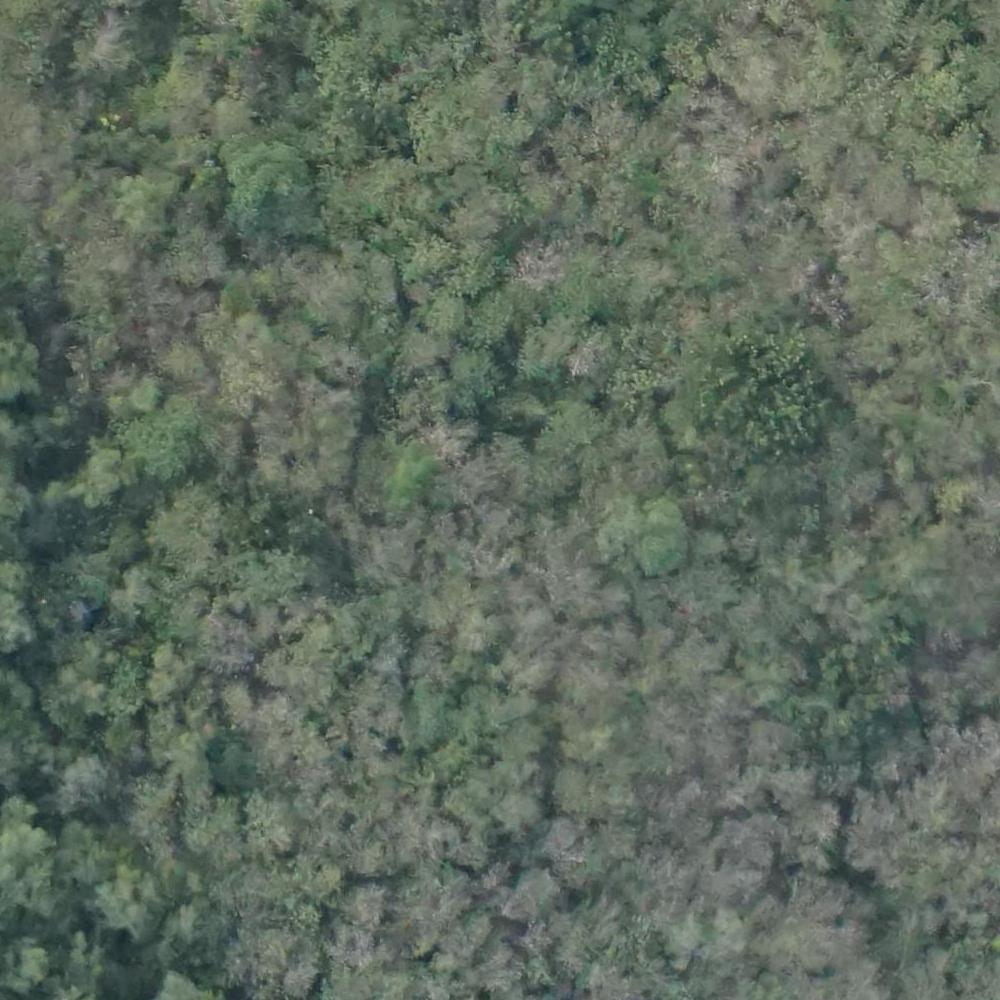tree: (710, 332, 816, 434), (603, 492, 693, 569), (227, 144, 313, 218), (430, 570, 507, 651), (123, 410, 202, 483), (149, 501, 229, 572), (479, 763, 547, 830), (332, 593, 394, 661), (554, 257, 622, 319), (371, 445, 435, 507), (557, 767, 627, 823), (285, 845, 356, 899), (537, 400, 603, 457), (102, 868, 157, 935), (500, 862, 560, 923), (449, 338, 502, 402), (786, 802, 838, 865), (48, 674, 104, 732), (113, 175, 169, 232), (60, 758, 120, 810), (170, 232, 221, 293), (477, 104, 529, 157), (143, 646, 196, 695), (85, 441, 126, 502), (681, 616, 726, 670), (113, 370, 160, 421), (1, 339, 43, 395), (664, 36, 707, 85), (424, 288, 468, 334), (848, 468, 885, 507)
